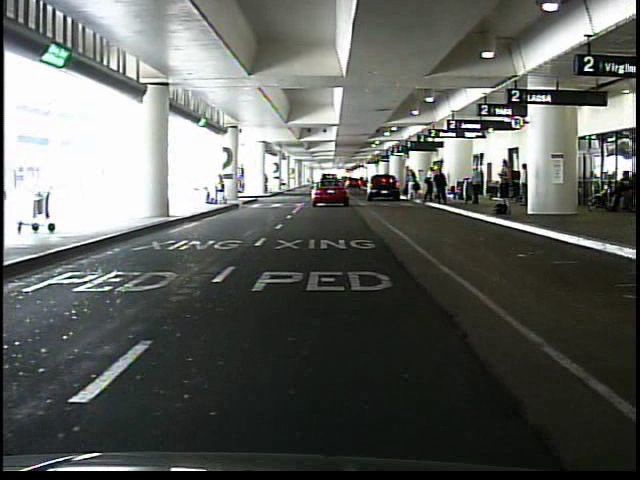person: (497, 160, 515, 218), (611, 169, 635, 210), (517, 162, 529, 208), (437, 170, 451, 206), (472, 167, 484, 206), (215, 173, 229, 206), (407, 165, 420, 200), (425, 168, 436, 204)
